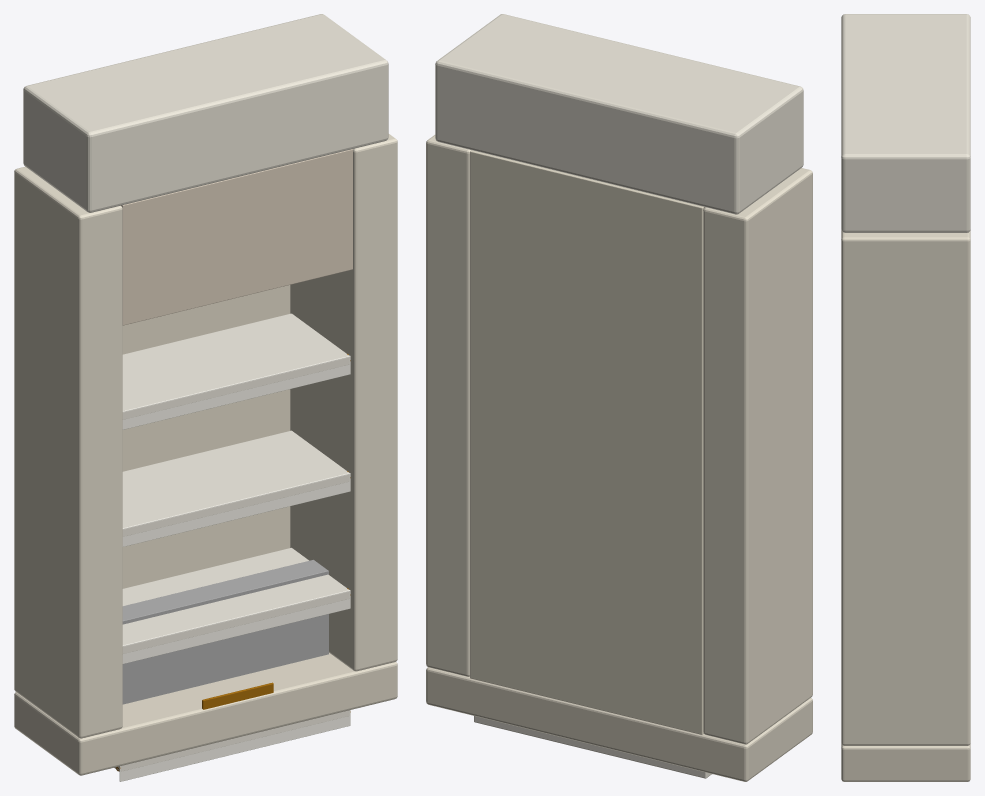
The model's file is display_rack.obj.
3 views of the same model, side by side, from view 1: azimuth 30°, elevation 25°; view 2: azimuth 150°, elevation 25°; view 3: azimuth 270°, elevation 25° (orthographic). The views are drawn at different scales.
Visible parts, largest first — view 1: side.panel_1, header.panel, side.panel_2, poster.backlit, back.panel, base.plinth, shelf.deck_3, shelf.deck_4, poster.lightbox, shelf.deck_2, shelf.taker_4, shelf.taker_2 (+4 smaller); view 2: back.panel, side.panel_1, header.panel, side.panel_2, base.plinth, shelf.deck_1; view 3: side.panel_2, header.panel, base.plinth.
Boxes of the visible parts, x1,y1,x2,y2 form: side.panel_1: (14,166,122,738); header.panel: (23,14,388,212); side.panel_2: (290,134,397,671); poster.backlit: (121,149,352,325); back.panel: (122,285,290,588); base.plinth: (14,653,397,775); shelf.deck_3: (122,430,349,536); shelf.deck_4: (122,313,349,419); poster.lightbox: (122,559,328,704); shelf.deck_2: (122,547,349,653); shelf.taker_4: (122,355,350,429); shelf.taker_2: (122,590,350,663); back.panel: (470,150,704,734); side.panel_1: (703,168,812,744); header.panel: (435,14,803,214); side.panel_2: (426,135,471,676); base.plinth: (426,667,812,781); shelf.deck_1: (474,716,711,778); side.panel_2: (841,230,970,745); header.panel: (841,14,970,232); base.plinth: (841,744,970,781).
Size of the model in its own units: 0.9145 by 1.8 by 0.3302.
